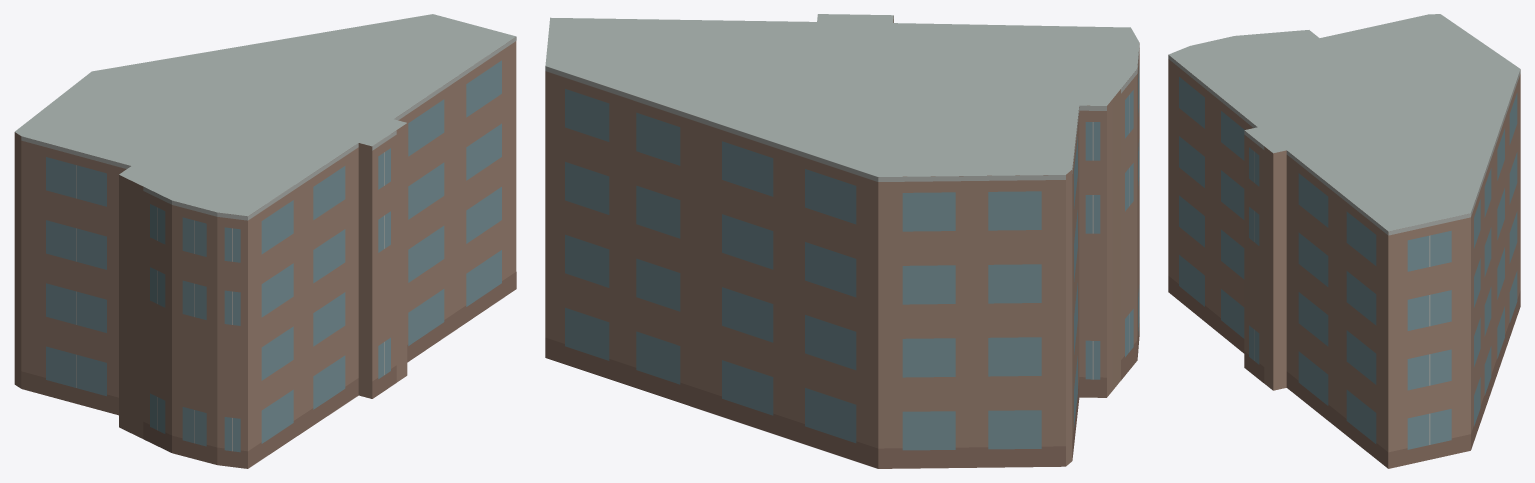
The model's file is survey-upis-32781185.glb.
The picture shows the model from 3 angles, left to right: view 1: azimuth 30°, elevation 25°; view 2: azimuth 150°, elevation 25°; view 3: azimuth 270°, elevation 25°; orthographic projection. The views are drawn at different scales.
Parts seen in each view (by area): view 1: survey-upis-32781185.tmp; view 2: survey-upis-32781185.tmp; view 3: survey-upis-32781185.tmp.
Boxes of the visible parts, x1,y1,x2,y2 form: survey-upis-32781185.tmp: [14, 14, 516, 468]; survey-upis-32781185.tmp: [545, 14, 1139, 468]; survey-upis-32781185.tmp: [1168, 14, 1520, 468].
Size of the model in its own units: 27.71 by 14.1 by 18.97.
